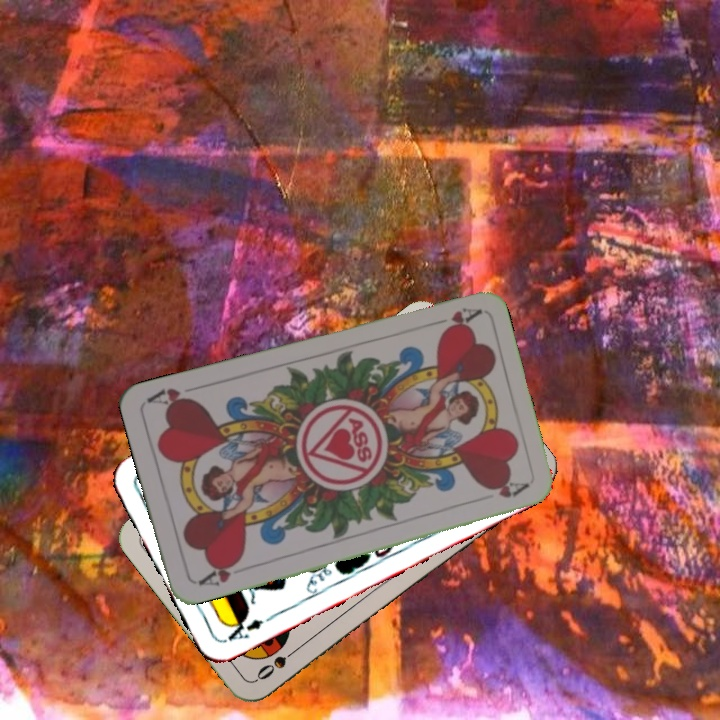EA: (221, 612, 266, 645)
HA: (423, 303, 482, 336), (194, 555, 244, 589)
SO: (252, 642, 303, 684)
